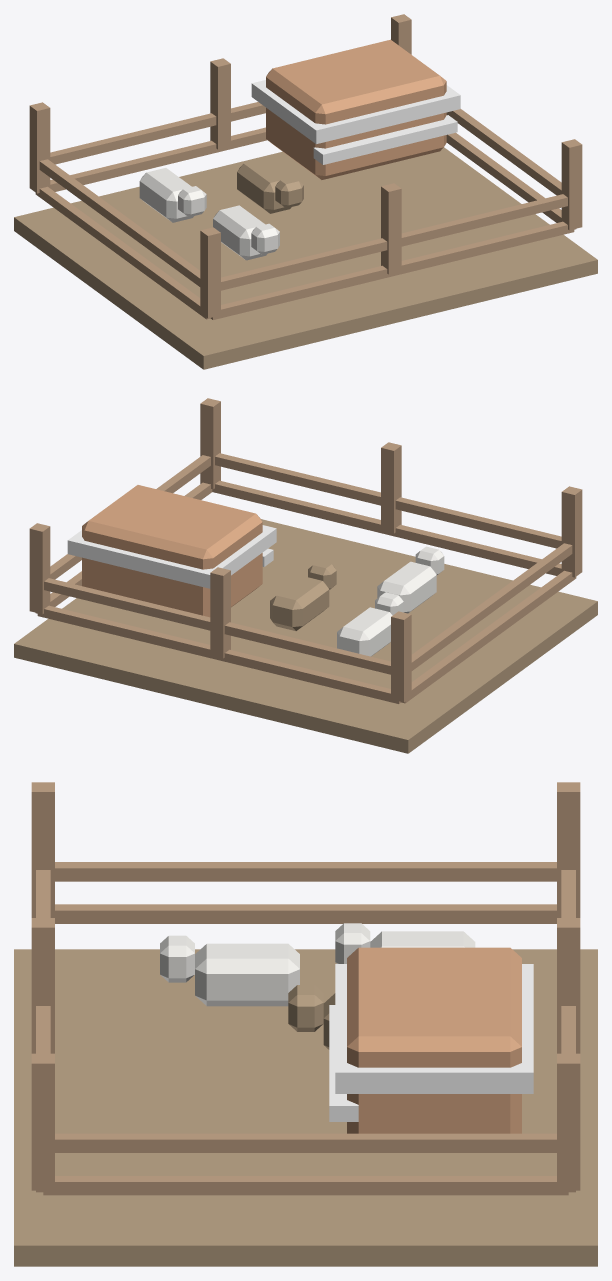
The model's file is corral.glb.
3 views of the same model, one above another, from view 1: azimuth 30°, elevation 25°; view 2: azimuth 150°, elevation 25°; view 3: azimuth 270°, elevation 25° (orthographic). The views are drawn at different scales.
Visible parts, largest first — view 1: main; view 2: main; view 3: main.
Part boxes in pixels (x1=…): main: x1=14, y1=14, x2=597, y2=369; main: x1=14, y1=398, x2=597, y2=753; main: x1=14, y1=782, x2=597, y2=1266.
Size of the model in its own units: 1.2 by 0.37 by 1.
